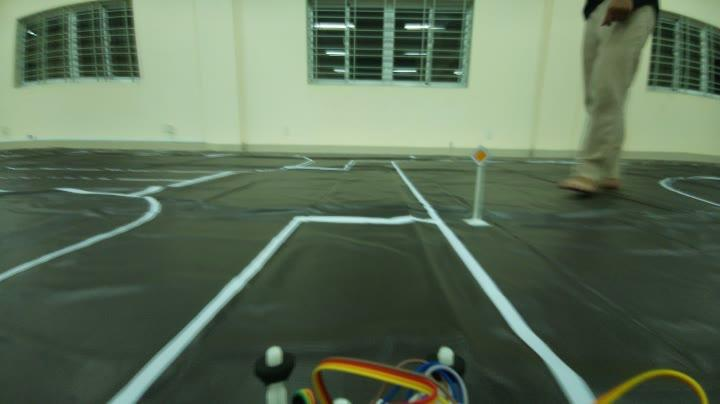priority: (466, 144, 491, 166)
